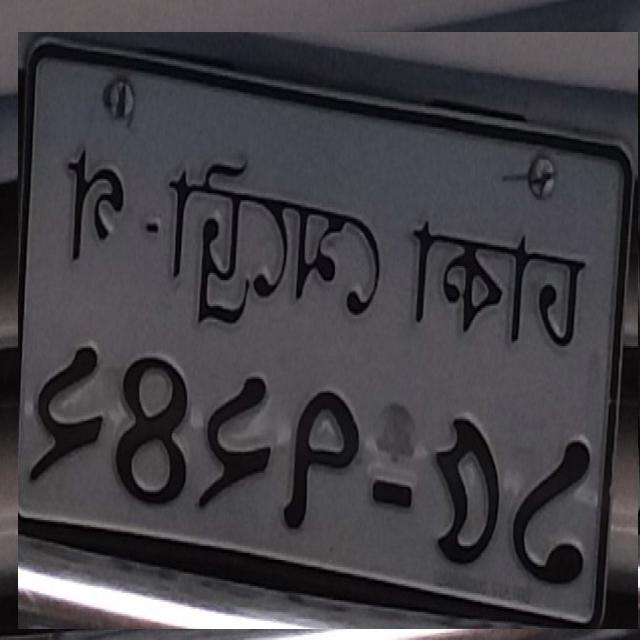cng: (274, 157, 490, 326)
numberplate: (18, 32, 638, 629)
